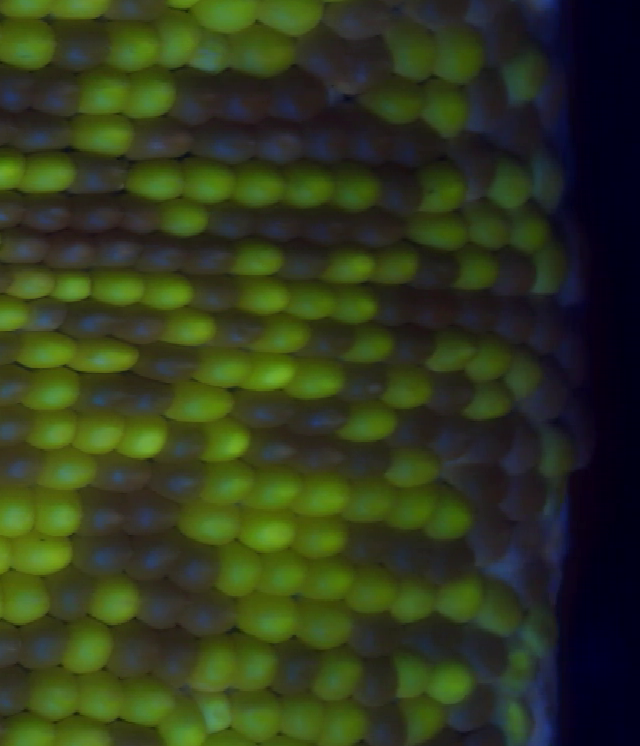fluorescent: (61, 617, 121, 674), (433, 21, 489, 82), (226, 29, 300, 74), (0, 16, 59, 71), (232, 153, 292, 207), (118, 675, 178, 729), (356, 78, 426, 124), (233, 595, 300, 643), (291, 599, 352, 651), (69, 113, 137, 159), (102, 22, 164, 72), (180, 497, 242, 547), (181, 152, 236, 208), (415, 157, 468, 215), (331, 157, 384, 215), (503, 45, 552, 107), (27, 666, 81, 722), (282, 157, 337, 211), (242, 464, 302, 513), (238, 506, 298, 555), (0, 571, 53, 626), (228, 634, 278, 692), (125, 66, 178, 120), (200, 456, 255, 508), (188, 347, 256, 389), (67, 336, 139, 375), (23, 147, 80, 196), (424, 78, 469, 140), (295, 471, 353, 519), (217, 537, 263, 597), (388, 22, 435, 80), (75, 671, 129, 721), (13, 330, 80, 370), (488, 155, 535, 212), (286, 355, 343, 402), (71, 409, 128, 456), (430, 484, 475, 543), (154, 695, 206, 746), (229, 687, 282, 737), (92, 575, 143, 626), (248, 314, 316, 352), (192, 633, 235, 693), (39, 445, 95, 491), (125, 160, 191, 199), (167, 382, 233, 421), (157, 307, 222, 346), (256, 1, 322, 39), (346, 563, 395, 614), (259, 546, 308, 597), (535, 418, 578, 476), (407, 210, 469, 250), (20, 366, 79, 408), (343, 400, 399, 444), (161, 9, 202, 69), (314, 653, 365, 701), (303, 554, 355, 601), (115, 414, 168, 460), (284, 277, 338, 322), (279, 696, 333, 741), (344, 475, 400, 518), (384, 360, 432, 410), (292, 515, 349, 557), (391, 481, 437, 533), (391, 572, 437, 624), (242, 350, 300, 391), (14, 535, 73, 575), (466, 200, 513, 250), (432, 575, 482, 622), (428, 326, 476, 374), (397, 695, 446, 742), (201, 419, 253, 463), (81, 69, 128, 117), (26, 408, 77, 452), (389, 443, 442, 485), (186, 1, 260, 31), (229, 236, 284, 276), (160, 198, 212, 240), (236, 276, 292, 315), (340, 325, 399, 362), (451, 245, 497, 292), (321, 243, 375, 283), (142, 270, 196, 310), (322, 701, 371, 745), (462, 378, 508, 424), (35, 490, 80, 537), (428, 663, 476, 707), (471, 332, 511, 384), (517, 605, 557, 657), (91, 270, 149, 305), (392, 649, 431, 701), (509, 205, 550, 254), (0, 712, 59, 746), (52, 716, 118, 746), (331, 285, 382, 323), (373, 240, 416, 285), (498, 694, 535, 746), (533, 240, 566, 298), (0, 485, 35, 538), (508, 346, 541, 400), (197, 30, 235, 73), (197, 693, 238, 732), (50, 269, 94, 302), (51, 1, 112, 22), (0, 294, 33, 331), (504, 647, 535, 682), (0, 1, 55, 19), (204, 729, 262, 746), (265, 736, 321, 746)
nonfluorescent: (436, 455, 512, 509), (106, 616, 160, 680), (334, 39, 394, 96), (47, 16, 114, 66), (166, 64, 220, 126), (293, 22, 350, 80), (87, 448, 155, 496), (218, 65, 272, 125), (319, 1, 401, 40), (268, 638, 323, 696), (131, 339, 200, 385), (176, 585, 237, 637), (15, 612, 71, 668), (402, 612, 467, 660), (272, 67, 328, 122), (189, 118, 257, 163), (169, 537, 222, 593), (111, 373, 172, 421), (559, 303, 593, 388), (11, 106, 75, 151), (225, 387, 295, 428), (124, 531, 179, 583), (124, 117, 192, 159), (462, 621, 508, 683), (121, 491, 184, 536), (452, 135, 496, 199), (500, 464, 548, 522), (68, 370, 128, 416), (45, 562, 94, 618), (74, 481, 122, 538), (347, 608, 404, 656), (560, 391, 596, 466), (465, 71, 507, 135), (69, 536, 133, 578), (481, 10, 527, 68), (494, 292, 540, 350), (347, 656, 400, 706), (499, 104, 543, 164), (154, 628, 197, 689), (469, 507, 511, 569), (154, 419, 213, 463), (383, 403, 438, 450), (31, 66, 82, 116), (138, 576, 186, 629), (293, 320, 357, 359), (424, 531, 472, 583), (240, 431, 300, 472), (146, 457, 209, 496), (413, 281, 461, 332), (452, 287, 500, 338), (443, 683, 495, 730), (383, 526, 428, 580), (68, 153, 127, 194), (133, 231, 189, 274), (66, 296, 121, 338), (23, 188, 73, 234), (427, 366, 473, 416), (392, 124, 448, 165), (302, 203, 353, 248), (71, 191, 128, 231), (292, 396, 349, 436), (292, 436, 352, 474), (531, 291, 563, 362), (490, 246, 535, 296), (95, 226, 145, 271), (412, 246, 460, 292), (353, 206, 405, 248), (117, 302, 169, 344), (0, 442, 46, 489), (343, 519, 389, 566), (378, 167, 421, 217), (278, 238, 329, 280), (211, 308, 262, 350), (503, 415, 541, 471), (249, 124, 305, 161), (400, 1, 469, 31), (387, 321, 434, 365), (184, 234, 234, 275), (0, 224, 51, 264), (49, 228, 98, 269), (472, 414, 512, 464), (343, 442, 394, 481), (518, 375, 562, 420), (342, 358, 385, 404), (514, 553, 551, 606), (306, 118, 349, 163), (207, 201, 259, 238), (350, 119, 394, 162), (187, 277, 238, 314), (432, 411, 468, 463), (0, 64, 37, 113), (122, 195, 166, 236), (256, 207, 305, 243), (105, 718, 169, 745), (0, 664, 32, 716), (22, 297, 69, 332), (379, 283, 416, 326), (0, 362, 34, 408), (365, 708, 406, 746), (105, 1, 173, 23), (0, 402, 34, 446), (511, 514, 545, 555), (0, 186, 31, 228), (460, 725, 500, 746)
